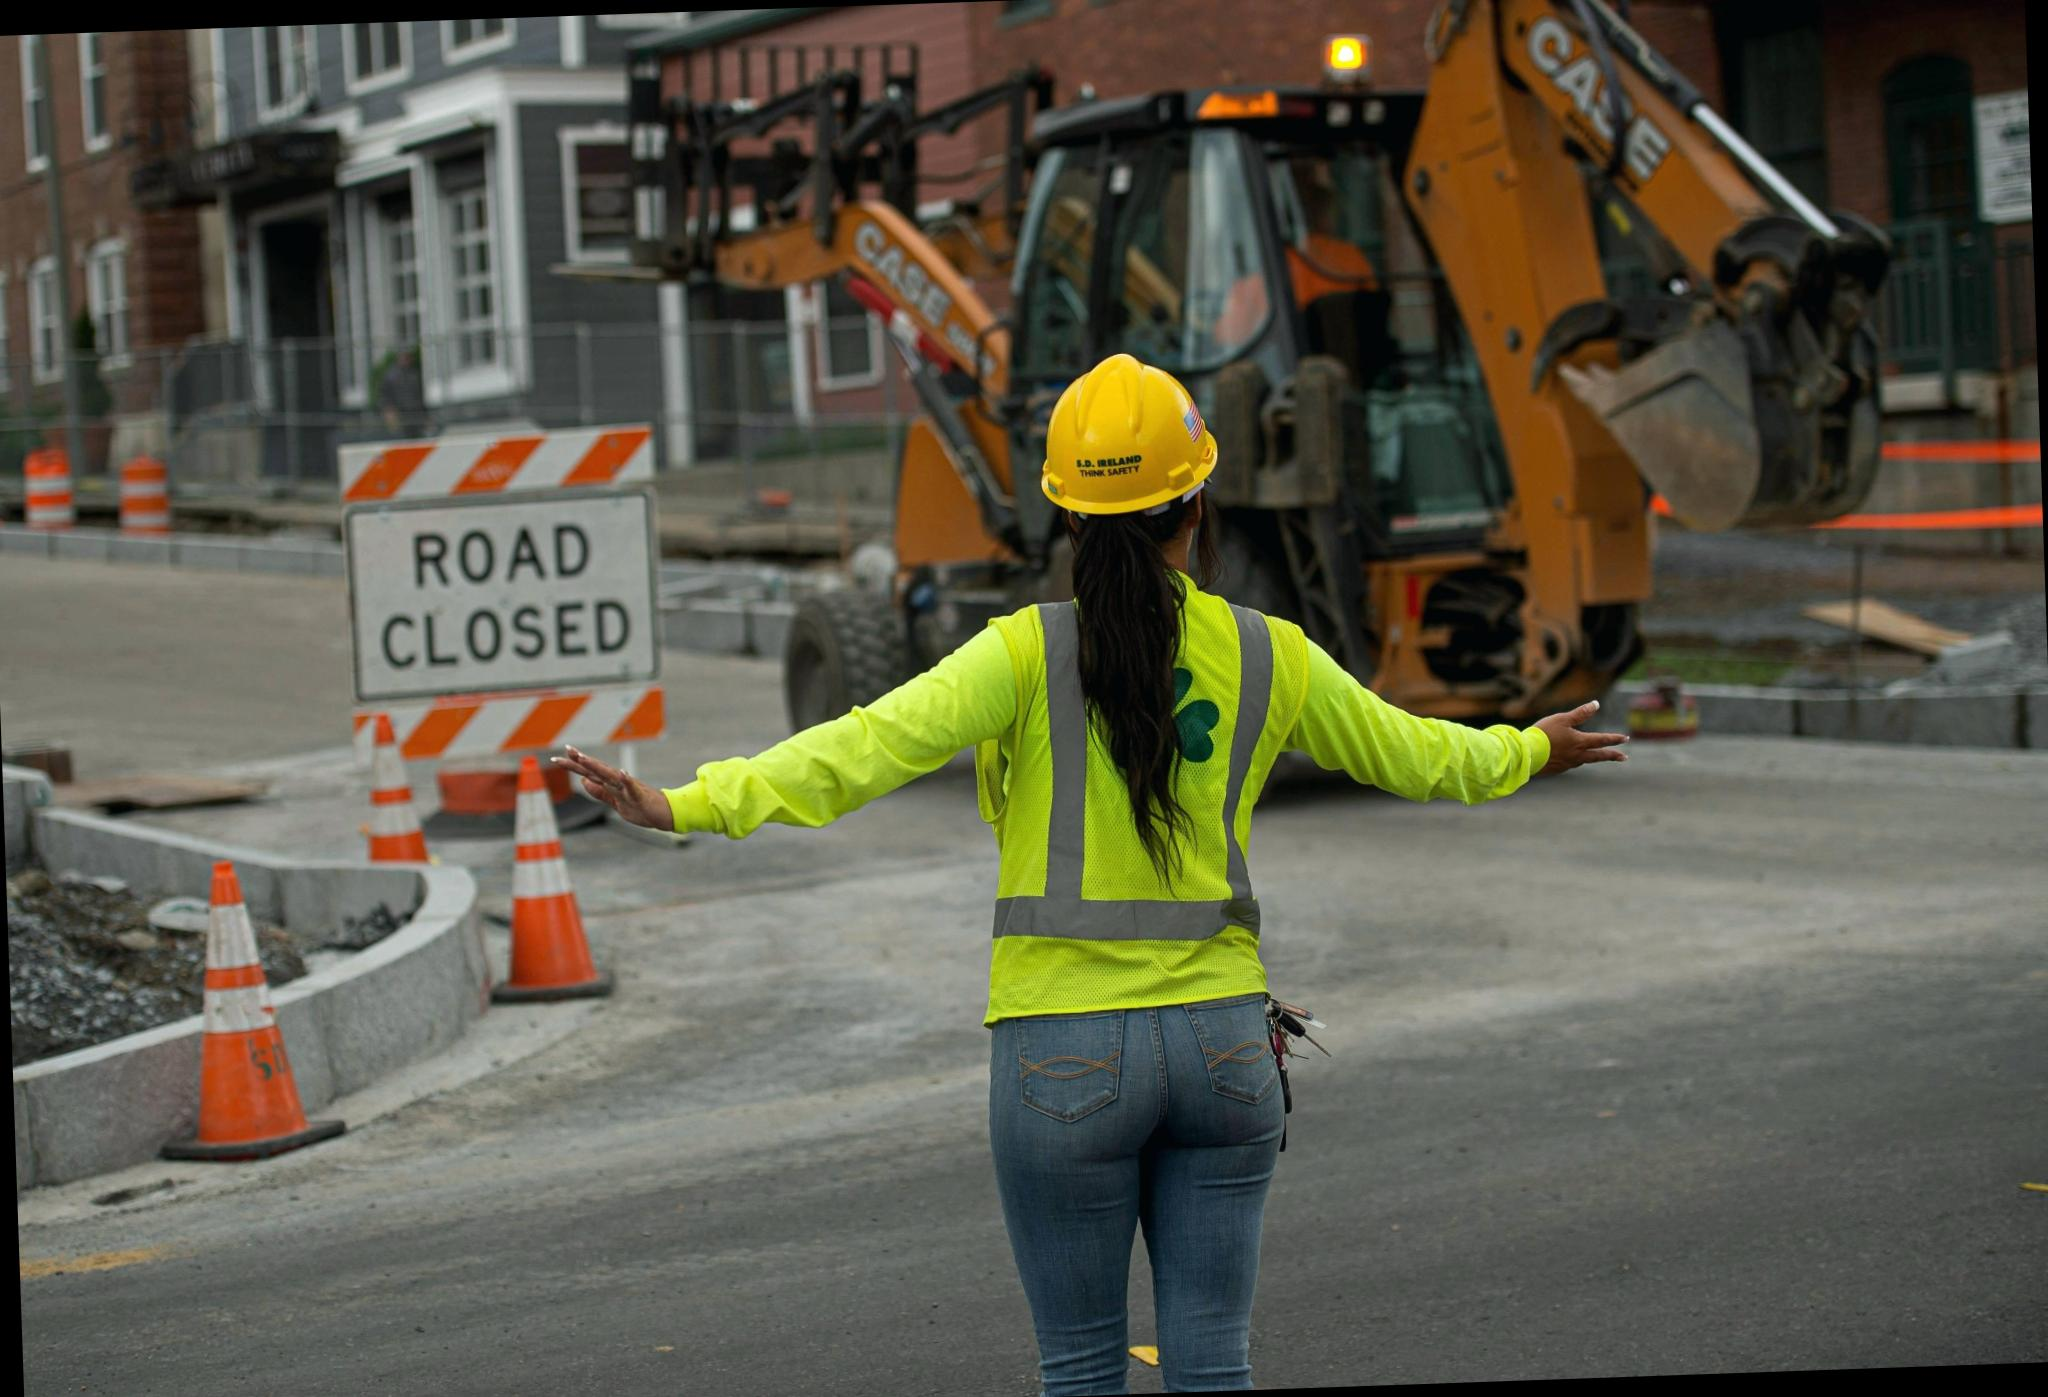Helmet: (1005, 320, 1237, 538)
Vest: (906, 580, 1373, 1066)
